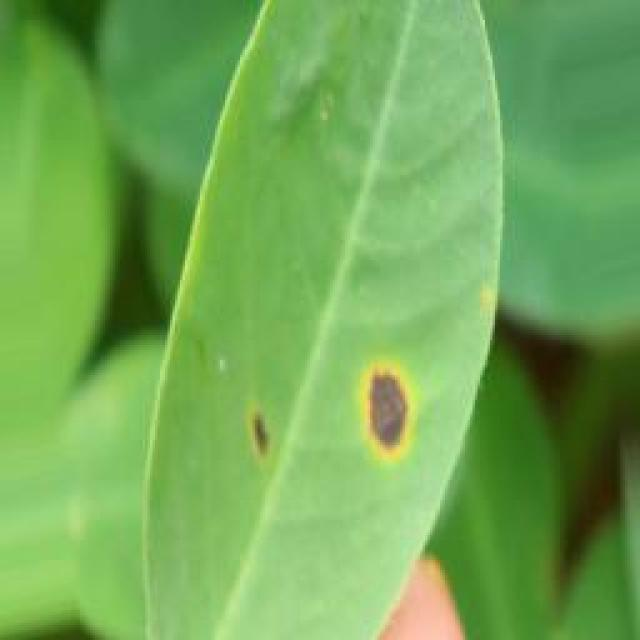Sigatoka: (334, 332, 426, 492), (225, 382, 289, 474)
